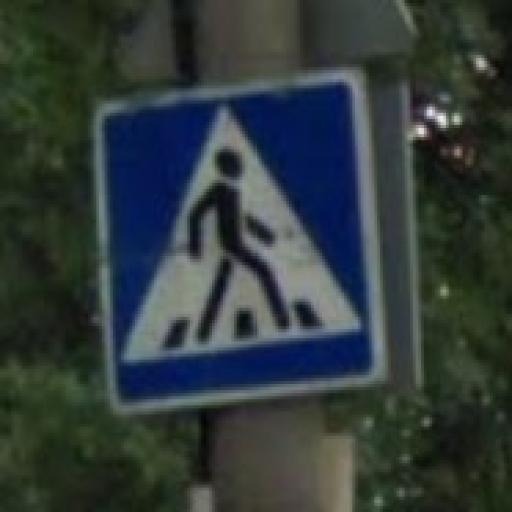traffic_sign: (92, 65, 389, 422)
